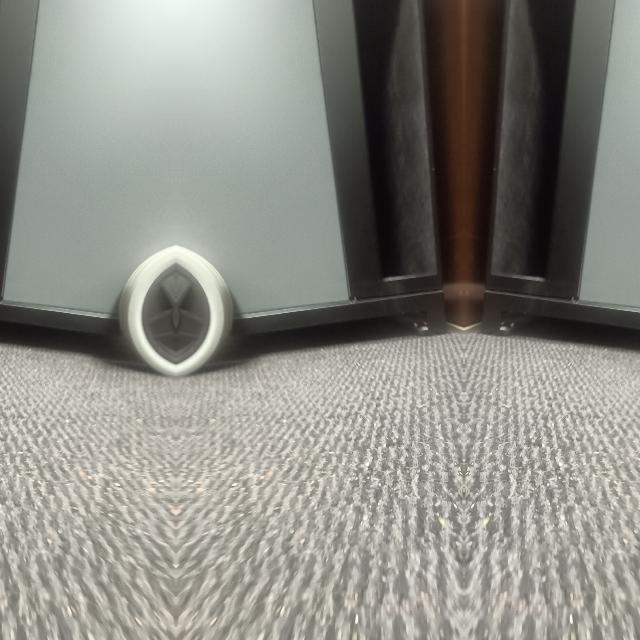obstacle: (177, 116, 443, 374), (0, 115, 173, 374), (484, 115, 640, 374)
